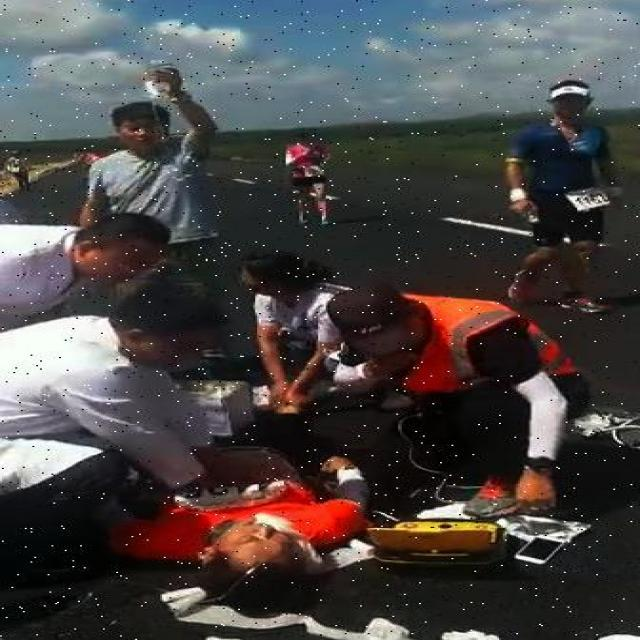fall: (114, 452, 373, 586)
